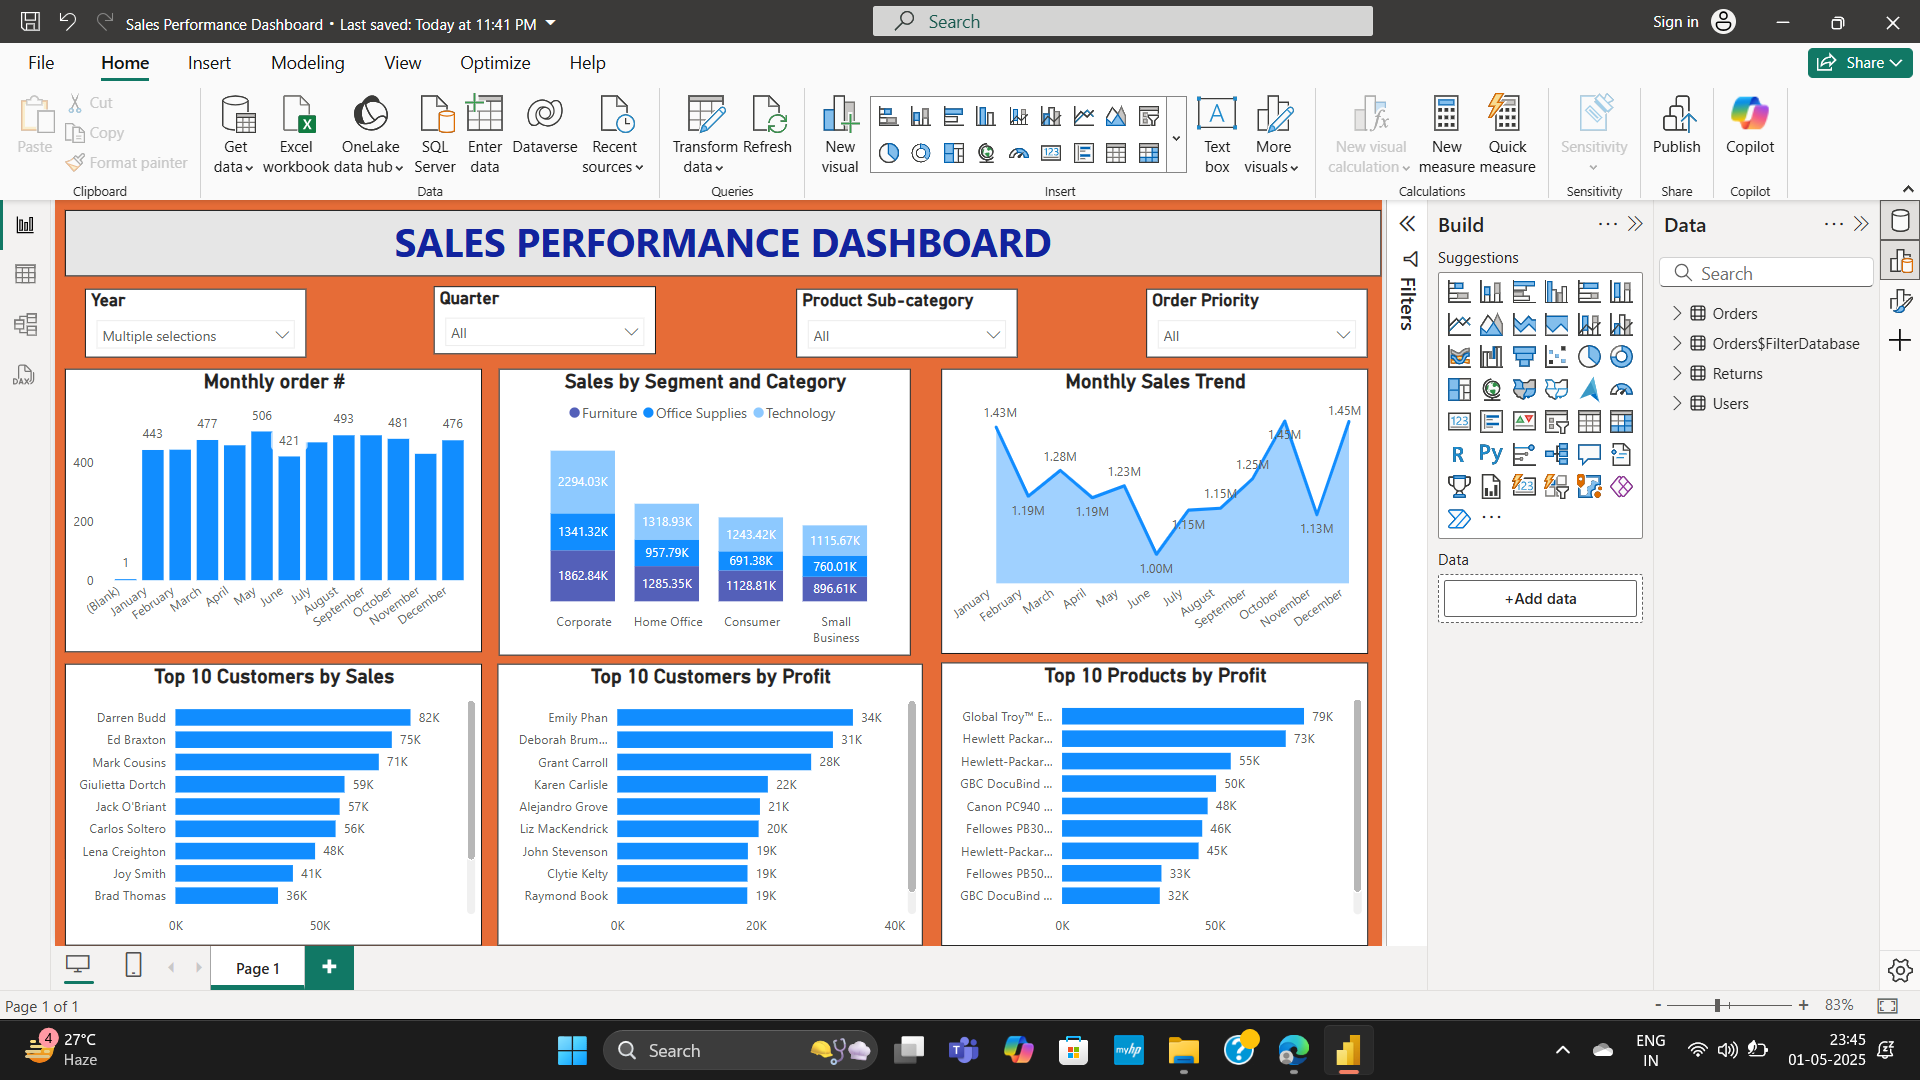

What the dashboard file says about the page in this screenshot:
{"tool":"powerbi","page":{"name":"Page 1","canvas":[1280,720],"ordinal":0},"visuals":[{"type":"textbox","box":[9.7,9.7,1270.4,63.9],"z":0},{"type":"slicer","title":"Year","fields":{"Values":["Orders.Ship Date.Variation.Date Hierarchy.Year"]},"box":[28.9,85.1,213.5,66.4],"z":1000},{"type":"slicer","title":"Order Priority","fields":{"Values":["Orders.Order Priority"]},"box":[1053.2,85.1,213.5,66.4],"z":2000},{"type":"slicer","title":"Product Sub-category","fields":{"Values":["Orders.Product Sub-Category"]},"box":[715.6,85.1,213.5,66.4],"z":3000},{"type":"slicer","title":"Quarter","fields":{"Values":["Orders.Ship Date.Variation.Date Hierarchy.Quarter"]},"box":[365.4,83.7,214.1,66],"z":4000},{"type":"columnChart","title":" Sales by Segment and Category","fields":{"Category":["Orders.Customer Segment"],"Y":["Sum(Orders.Sales)"],"Series":["Orders.Product Category"]},"box":[428.2,162.6,397.6,276.9],"z":5000},{"type":"areaChart","title":"Monthly Sales Trend","fields":{"Category":["Orders.Ship Date.Variation.Date Hierarchy.Month"],"Y":["Sum(Orders.Sales)"]},"box":[855.1,163.3,412.3,275.5],"z":6000},{"type":"barChart","title":"Top 10 Customers by Sales","fields":{"Category":["Orders.Customer Name"],"Y":["Sum(Orders.Sales)"]},"box":[9.7,447.5,402.4,272],"z":7000},{"type":"barChart","title":"Top 10 Customers by Profit","fields":{"Category":["Orders.Customer Name"],"Y":["Sum(Orders.Profit)"]},"box":[426.6,447.5,410.5,272],"z":8000},{"type":"lineStackedColumnComboChart","title":"Monthly order #","fields":{"Category":["Orders.Ship Date.Variation.Date Hierarchy.Month"],"Y":["Count(Orders.Order ID)"]},"box":[10.2,163.3,402,273.5],"z":9000},{"type":"barChart","title":"Top 10 Products by Profit","fields":{"Category":["Orders.Product Name"],"Y":["Sum(Orders.Profit)"]},"box":[855.1,446.9,412.3,273.5],"z":10000}]}

Visuals, with their boxes on the page's 1280x720 design canvas (x1, y1, x2, y2). These are canvas units, not pixel positions in the 1920x1080 screenshot, which may show the page scaled, cropped or inside an application window:
textbox: 10 10 1280 74
"Year" slicer: 29 85 242 152
"Order Priority" slicer: 1053 85 1267 152
"Product Sub-category" slicer: 716 85 929 152
"Quarter" slicer: 365 84 580 150
" Sales by Segment and Category" columnChart: 428 163 826 440
"Monthly Sales Trend" areaChart: 855 163 1267 439
"Top 10 Customers by Sales" barChart: 10 448 412 720
"Top 10 Customers by Profit" barChart: 427 448 837 720
"Monthly order #" lineStackedColumnComboChart: 10 163 412 437
"Top 10 Products by Profit" barChart: 855 447 1267 720
